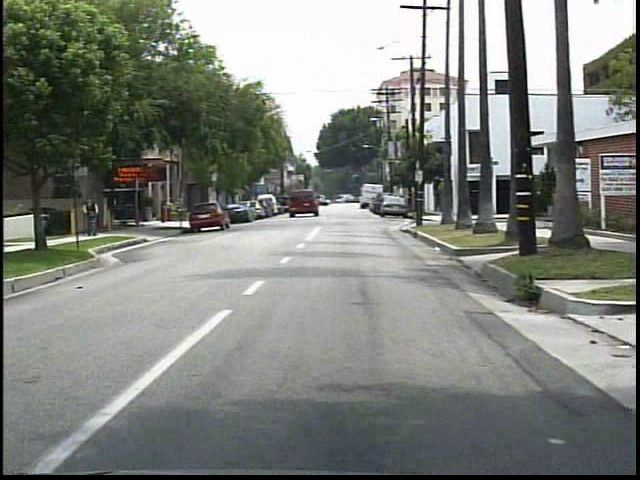person: (74, 192, 100, 239)
